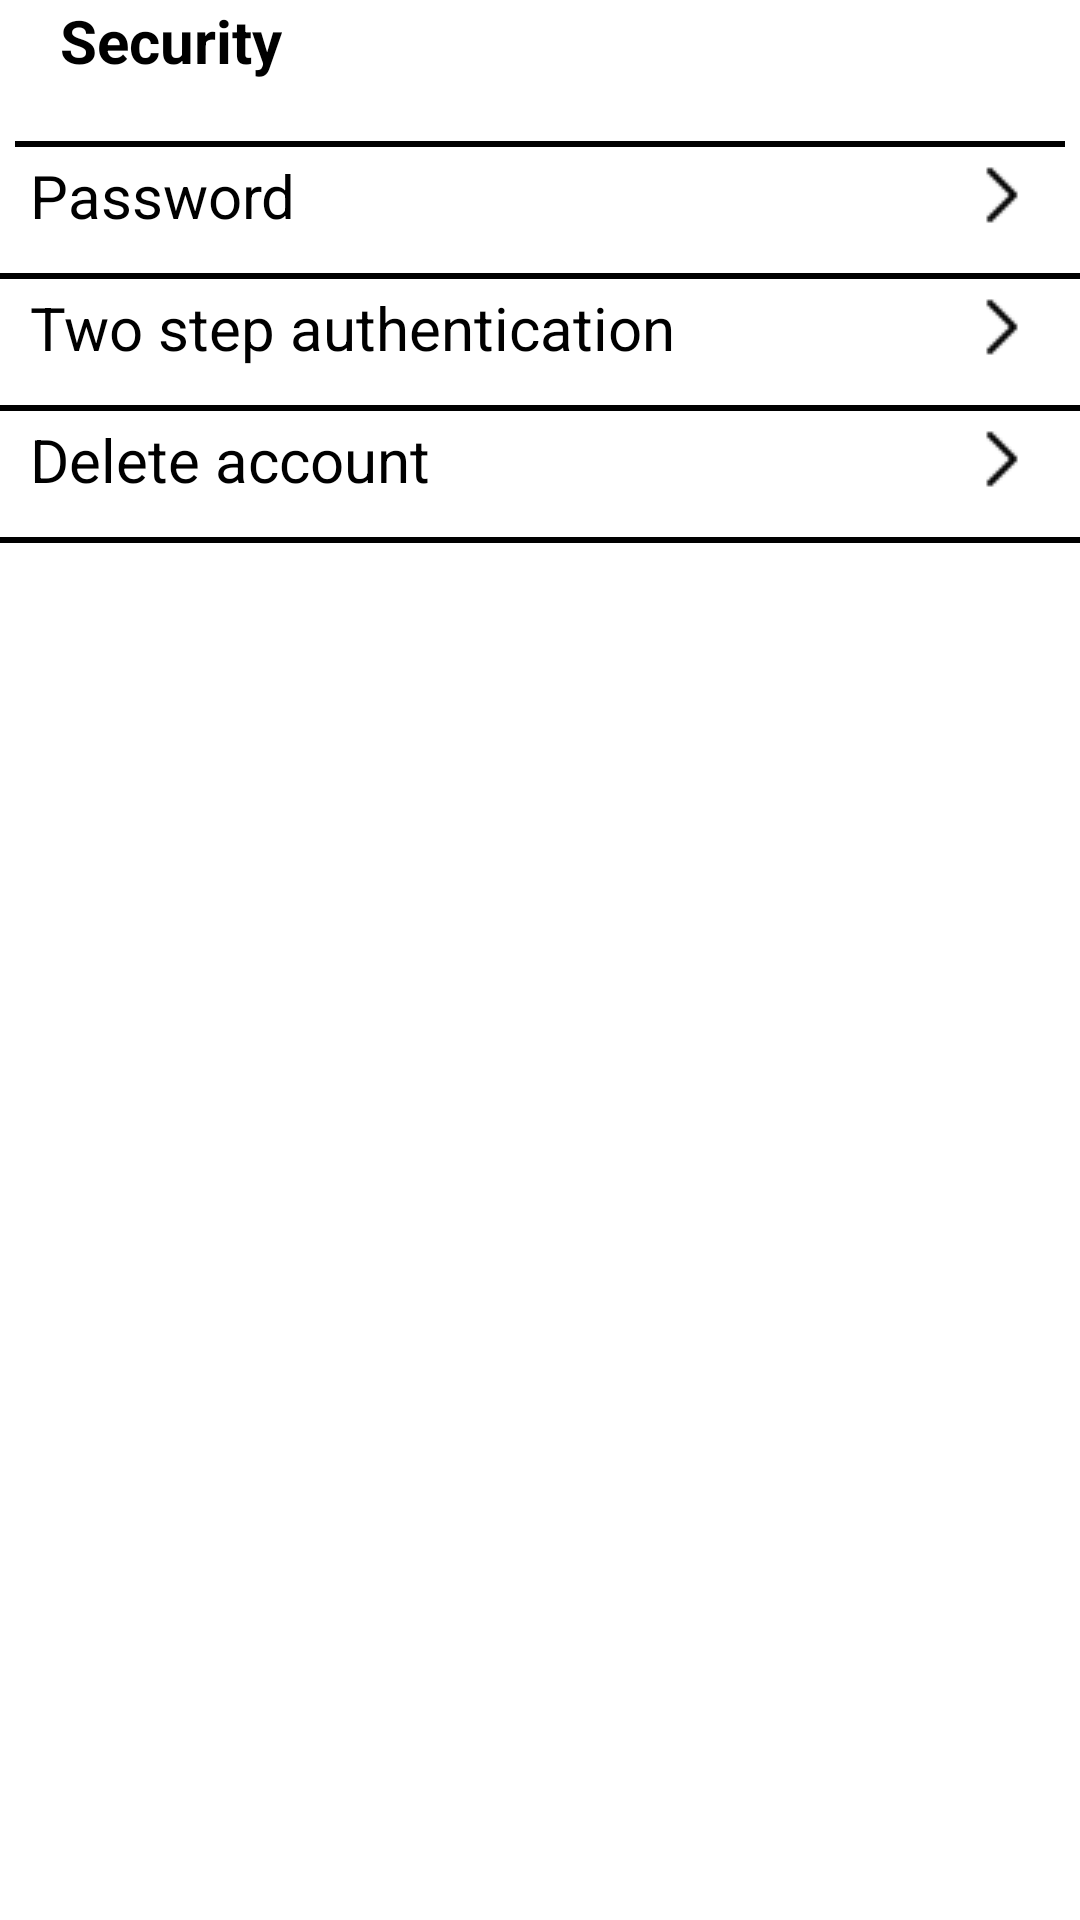

Point at icon controls on the screen. Image size 1080x1920, points as (x,y).
next arrow: (1002,195), (1002,327), (1002,459)
